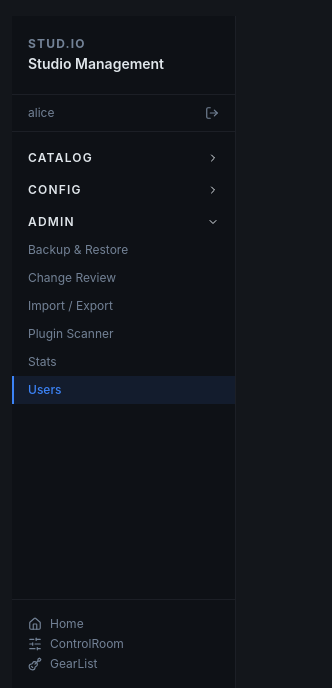
Test: UsersSidebar › collapses and expands the ADMIN group on toggle
The width and height of the screenshot is (332, 688).
Click the button "ADMIN": point(124, 222) left=12, top=208, right=235, bottom=236
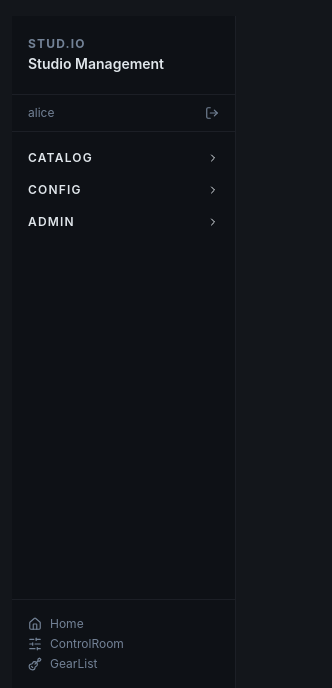
Now the link "Users" is gone
Click the button "ADMIN": point(124, 222) left=12, top=208, right=235, bottom=236
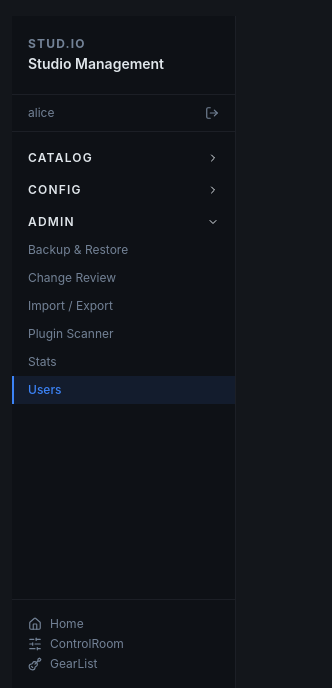
Now the link "Users" is shown, box left=12, top=376, right=235, bottom=404
